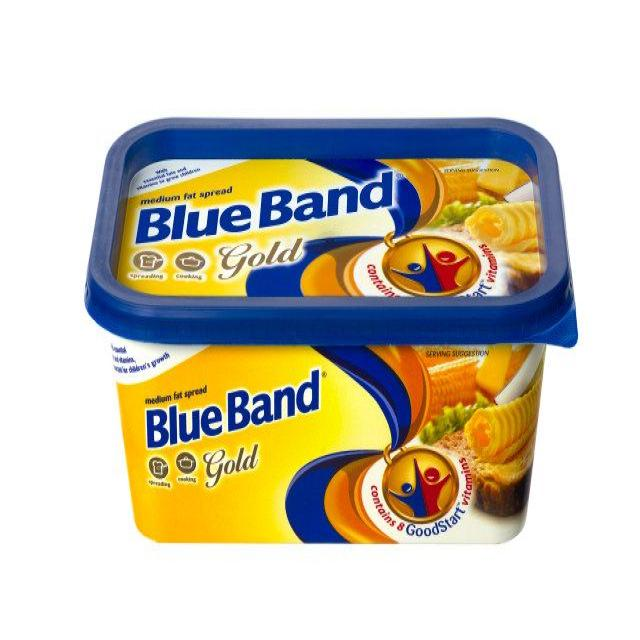butter: (63, 82, 595, 568)
